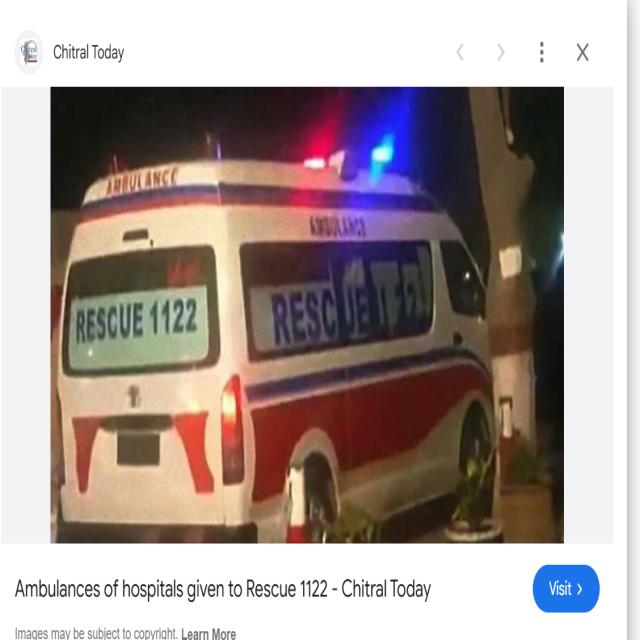ambulance: (56, 160, 513, 565)
